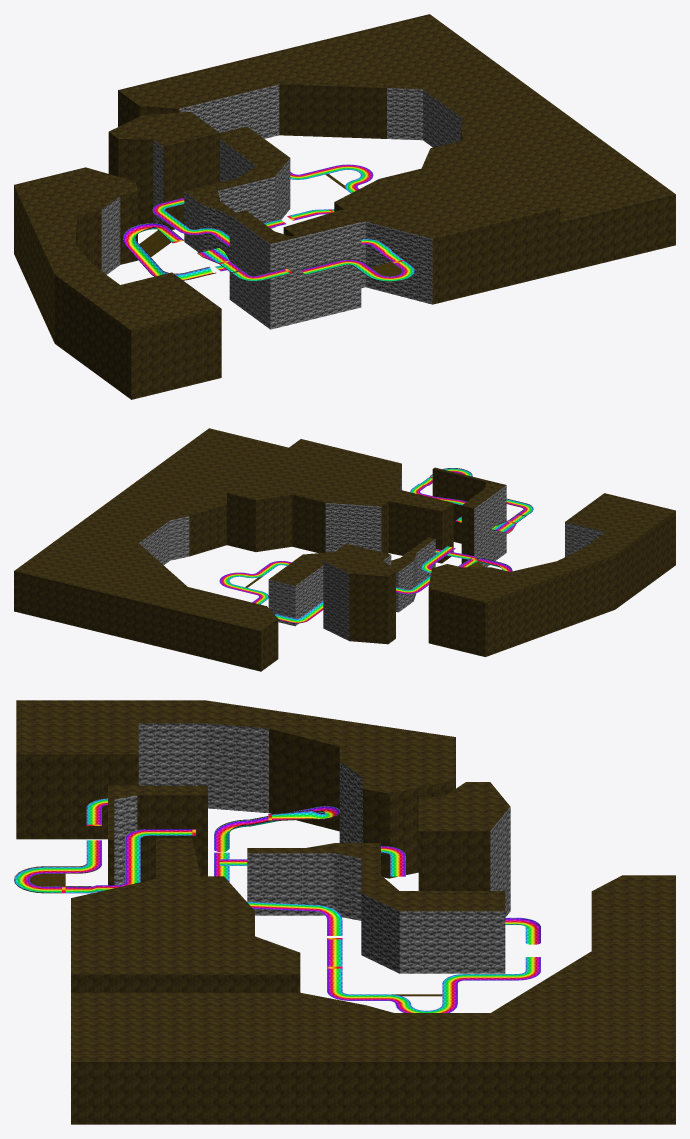
The picture shows the model from 3 angles, top to bottom: view 1: azimuth 30°, elevation 25°; view 2: azimuth 150°, elevation 25°; view 3: azimuth 270°, elevation 25°; orthographic projection. The views are drawn at different scales.
Visible parts, largest first — view 1: model3-SKP--wall.001, model3-SKP--lavafall.001, model3-SKP--rainbow.001, model3-SKP--doro.001, model3-SKP--saku.001; view 2: model3-SKP--wall.001, model3-SKP--lavafall.001, model3-SKP--rainbow.001; view 3: model3-SKP--wall.001, model3-SKP--lavafall.001, model3-SKP--rainbow.001.
Part boxes in pixels (x1,y1,x2,y2): model3-SKP--wall.001: (14, 14, 675, 399); model3-SKP--lavafall.001: (101, 84, 462, 329); model3-SKP--rainbow.001: (123, 164, 414, 281); model3-SKP--doro.001: (139, 174, 402, 276); model3-SKP--saku.001: (155, 225, 414, 281); model3-SKP--wall.001: (14, 428, 675, 671); model3-SKP--lavafall.001: (139, 466, 605, 640); model3-SKP--rainbow.001: (219, 468, 533, 623); model3-SKP--wall.001: (16, 700, 675, 1124); model3-SKP--lavafall.001: (114, 723, 510, 973); model3-SKP--rainbow.001: (14, 798, 540, 1012).
Size of what is drawn, in the model's own units: 180379 by 26000 by 148565.
Materials: 9 (9 with a texture image).
